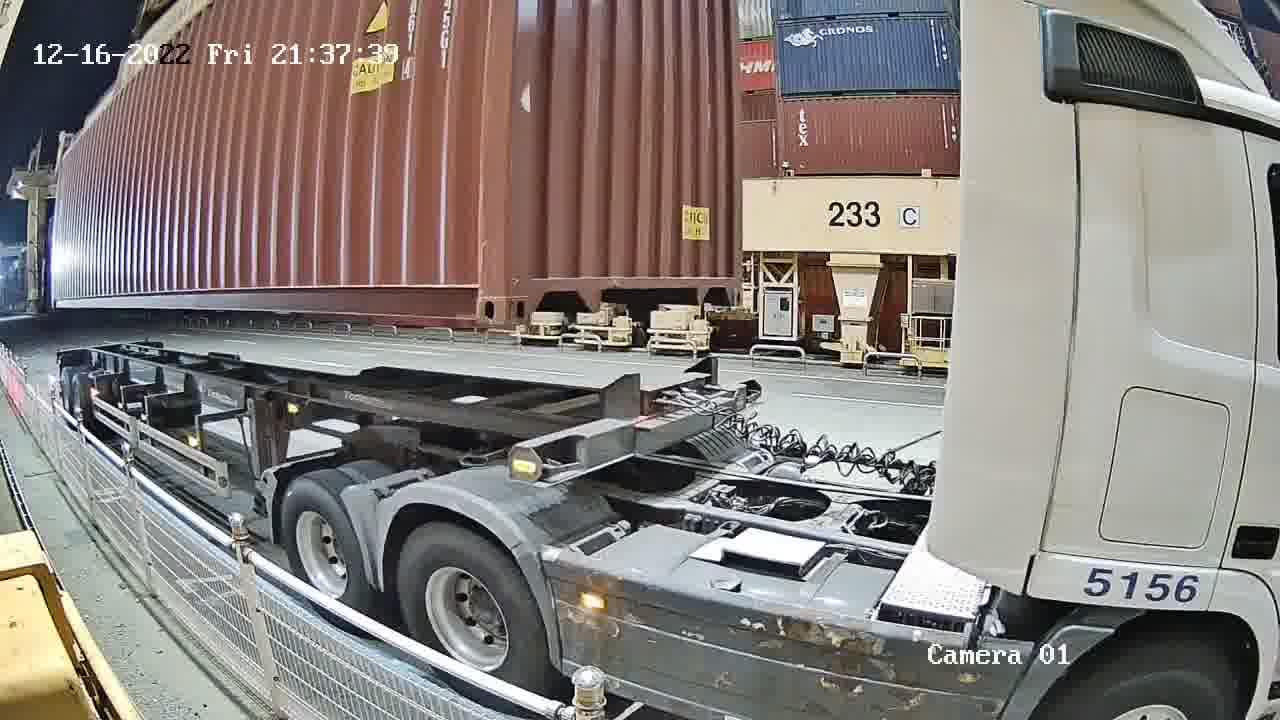Chassis: (510, 380, 763, 487)
Hole_L: (505, 256, 558, 324)
Hole_R: (431, 253, 503, 326), (700, 258, 745, 311)
Tire: (397, 524, 549, 696), (280, 485, 363, 608)
